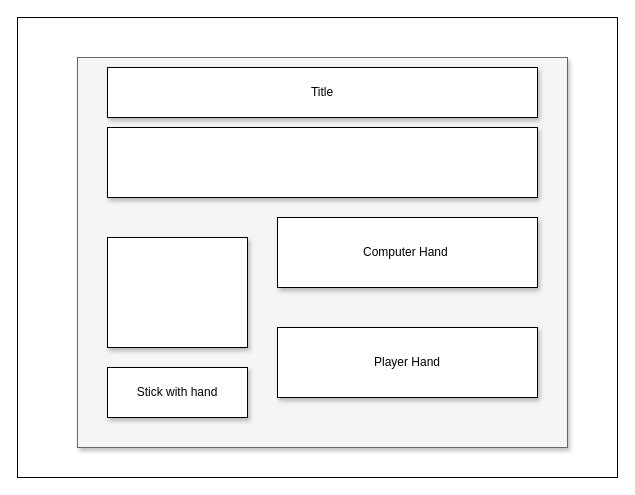
This 635x495 diagram has some shape labels left out. Here are the shapes that lost their labels. From the top down, the centre of each, then its label:
[323,163]: Player scores Game Totals
[178,293]: Deck
